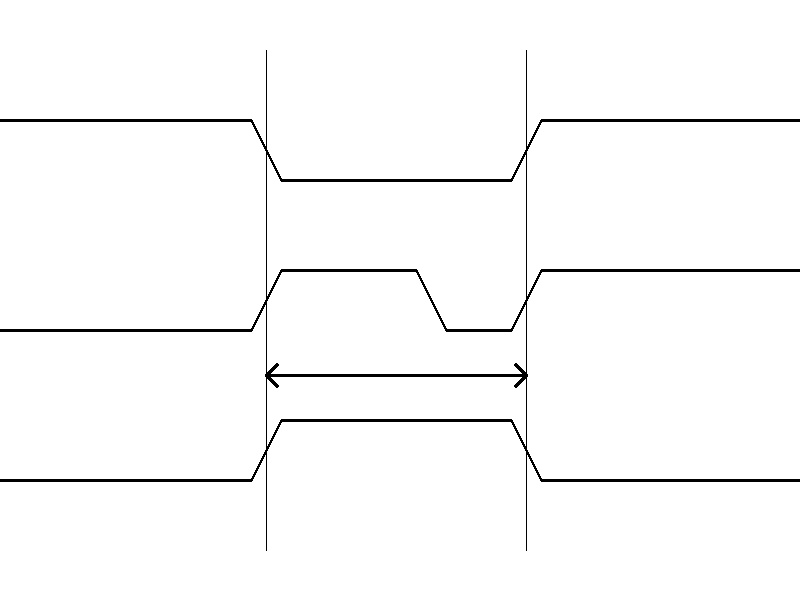double_arrow: (266, 360, 526, 390)
